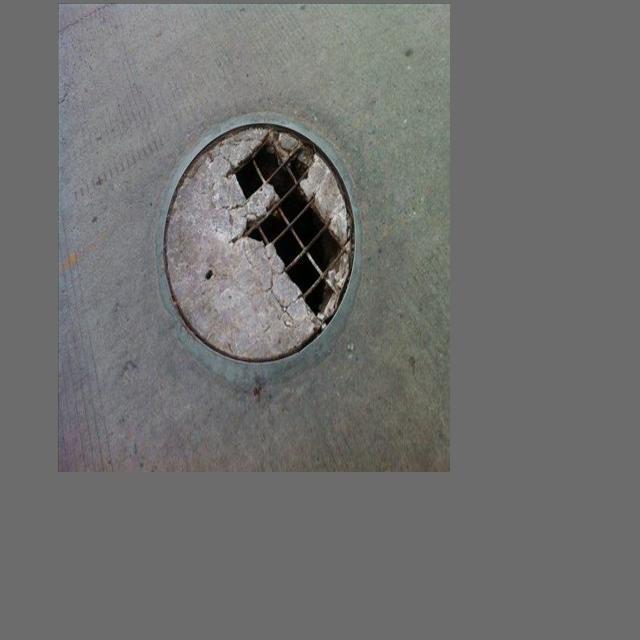broke: (148, 107, 375, 383)
